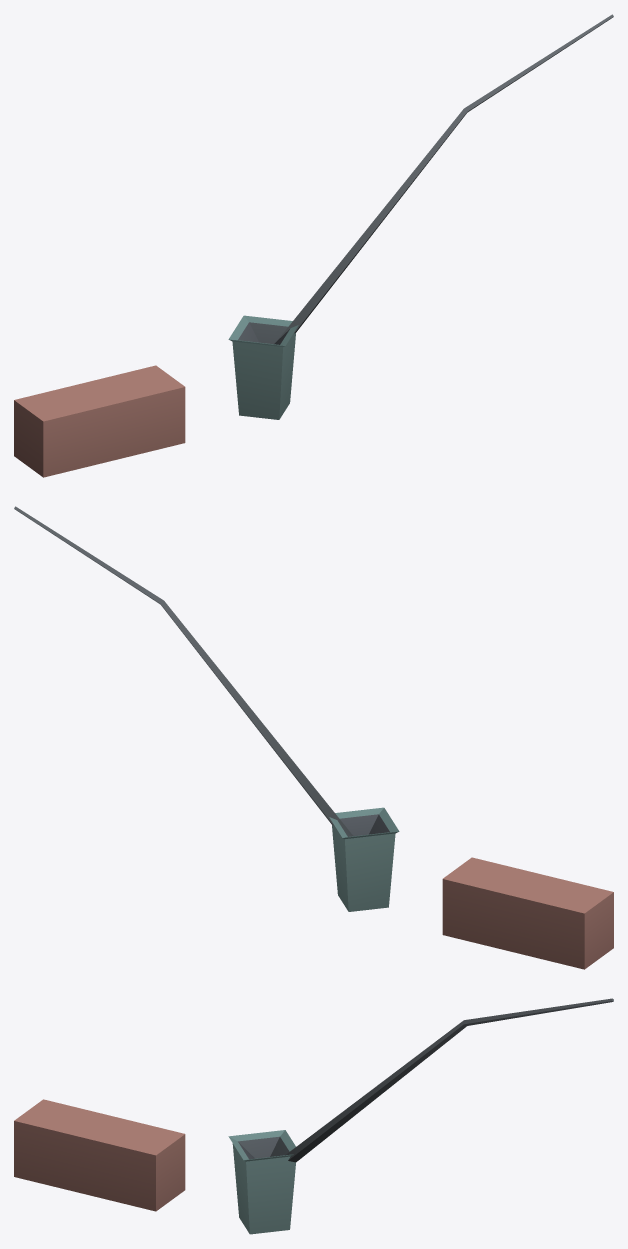
File: rod.lod2.glb
The picture shows the model from 3 angles, top to bottom: view 1: azimuth 30°, elevation 25°; view 2: azimuth 150°, elevation 25°; view 3: azimuth 330°, elevation 25°; orthographic projection.
Bounding box in the file's own units: 2.18 × 1.11 × 0.27.
